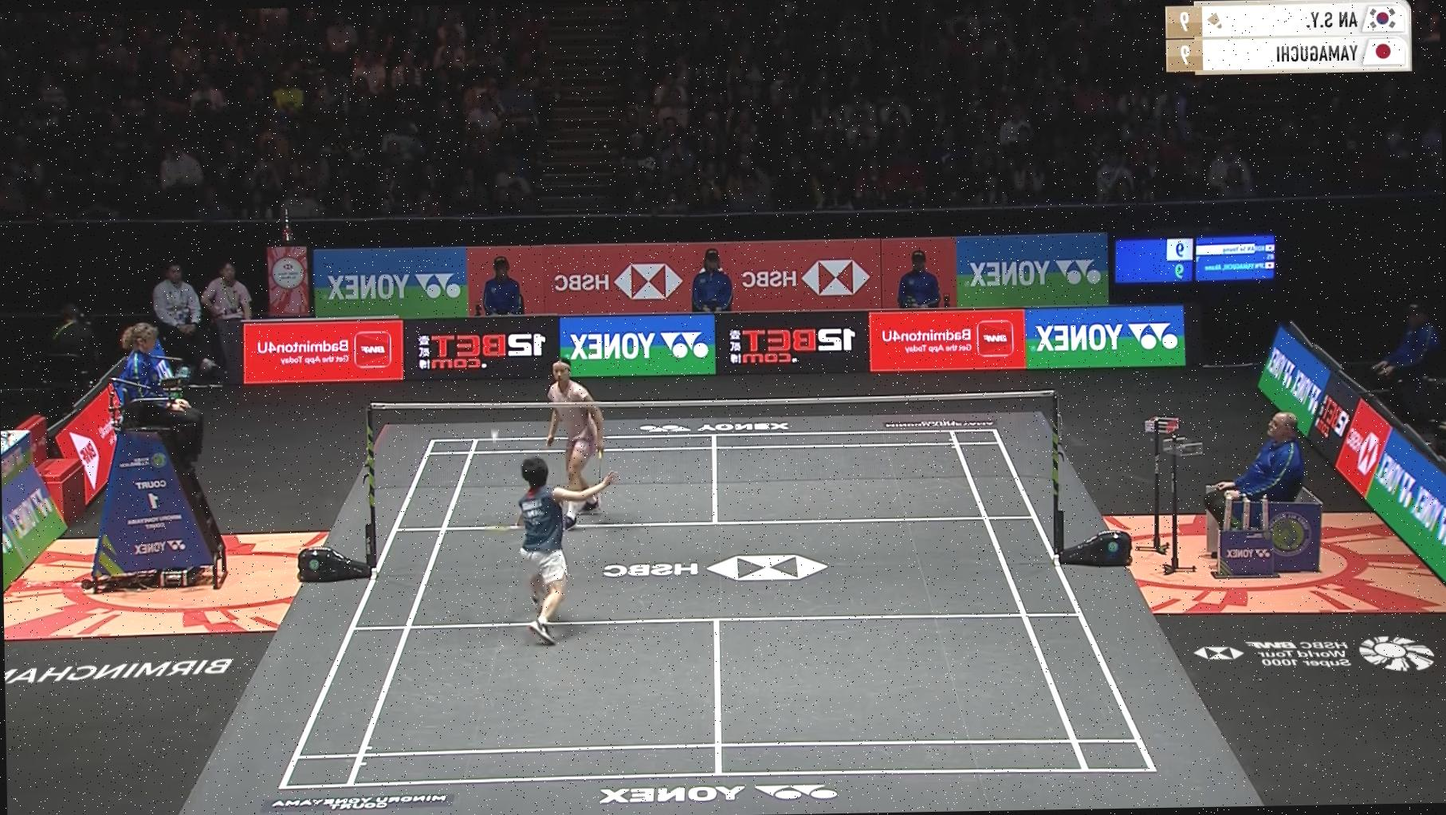Player 1: (537, 351, 615, 535)
Player 2: (490, 446, 630, 662)
shuttle: (481, 425, 502, 452)
